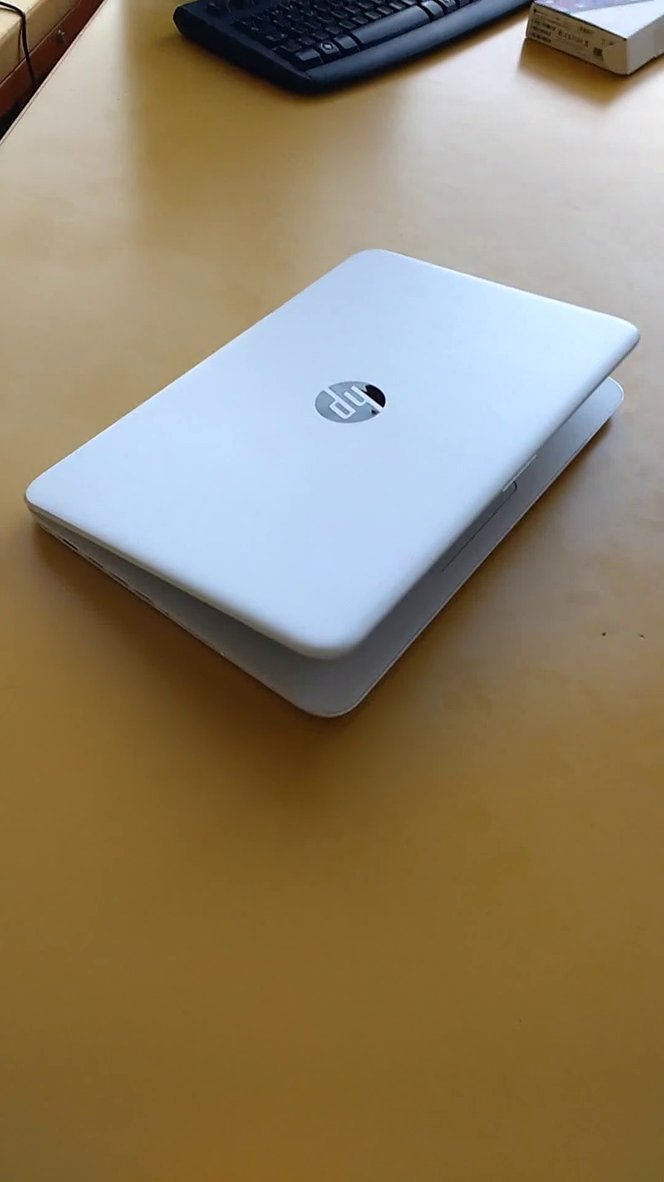laptop: (16, 234, 664, 750)
